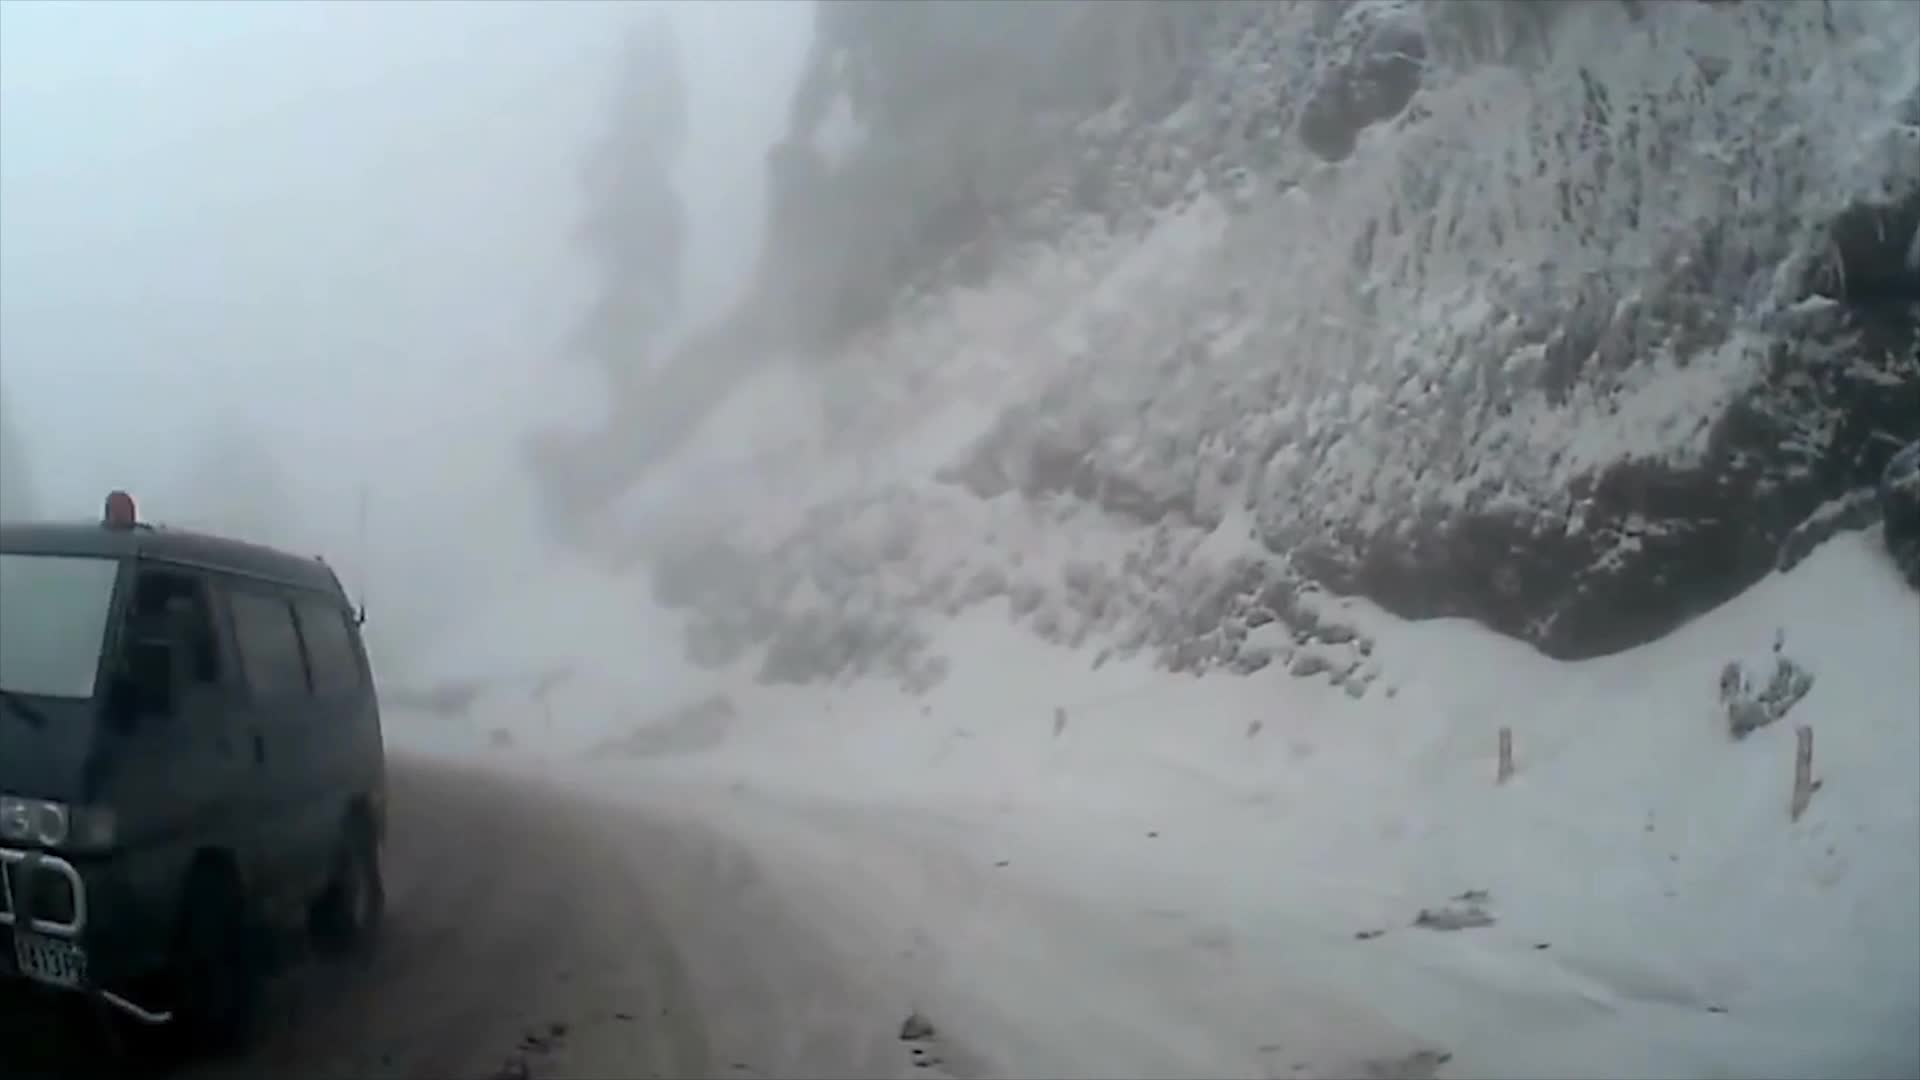vehicle: (0, 488, 392, 1054)
